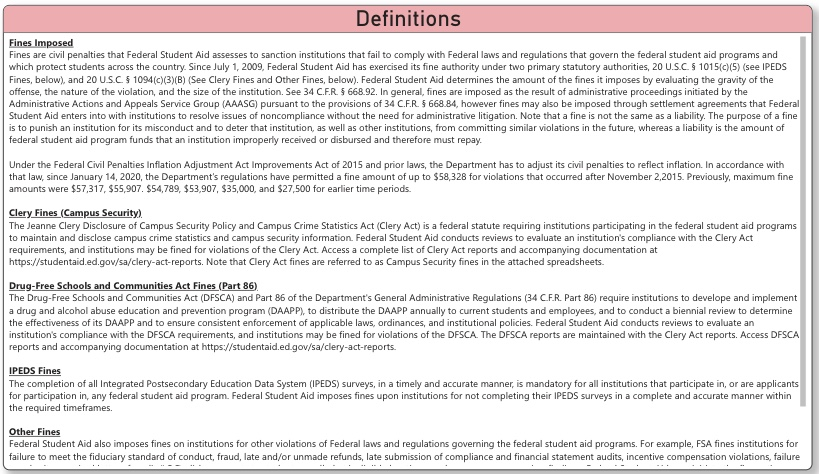

Layout of this report page (visuals, bound fields, positions):
{"tool":"powerbi","page":{"name":"Definitions","canvas":[1280,720],"ordinal":1},"visuals":[{"type":"textbox","title":"Definitions","box":[75.9,31.6,1131.3,650.3],"z":0}]}

Visuals, with their boxes in screenshot pixels (x1, y1, x2, y2), scaled from the page's 1280x720 canvas onto the 819x474 screenshot:
"Definitions" textbox: locate(49, 21, 772, 449)
